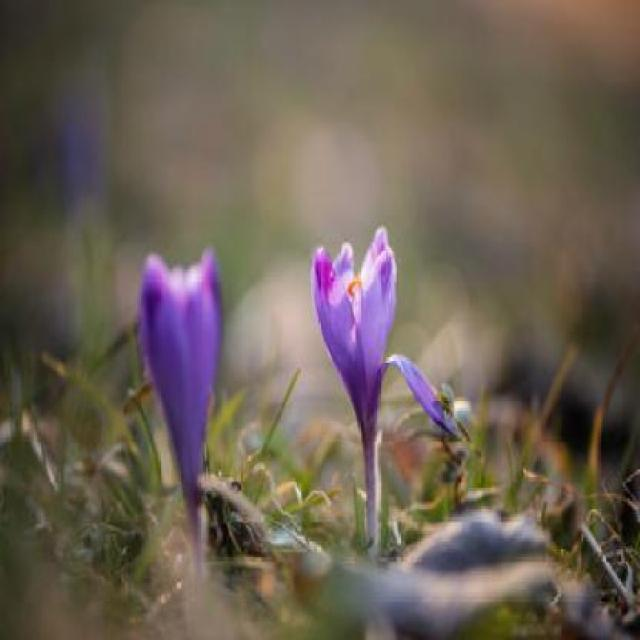Flower: (307, 222, 458, 453), (139, 230, 223, 493)
